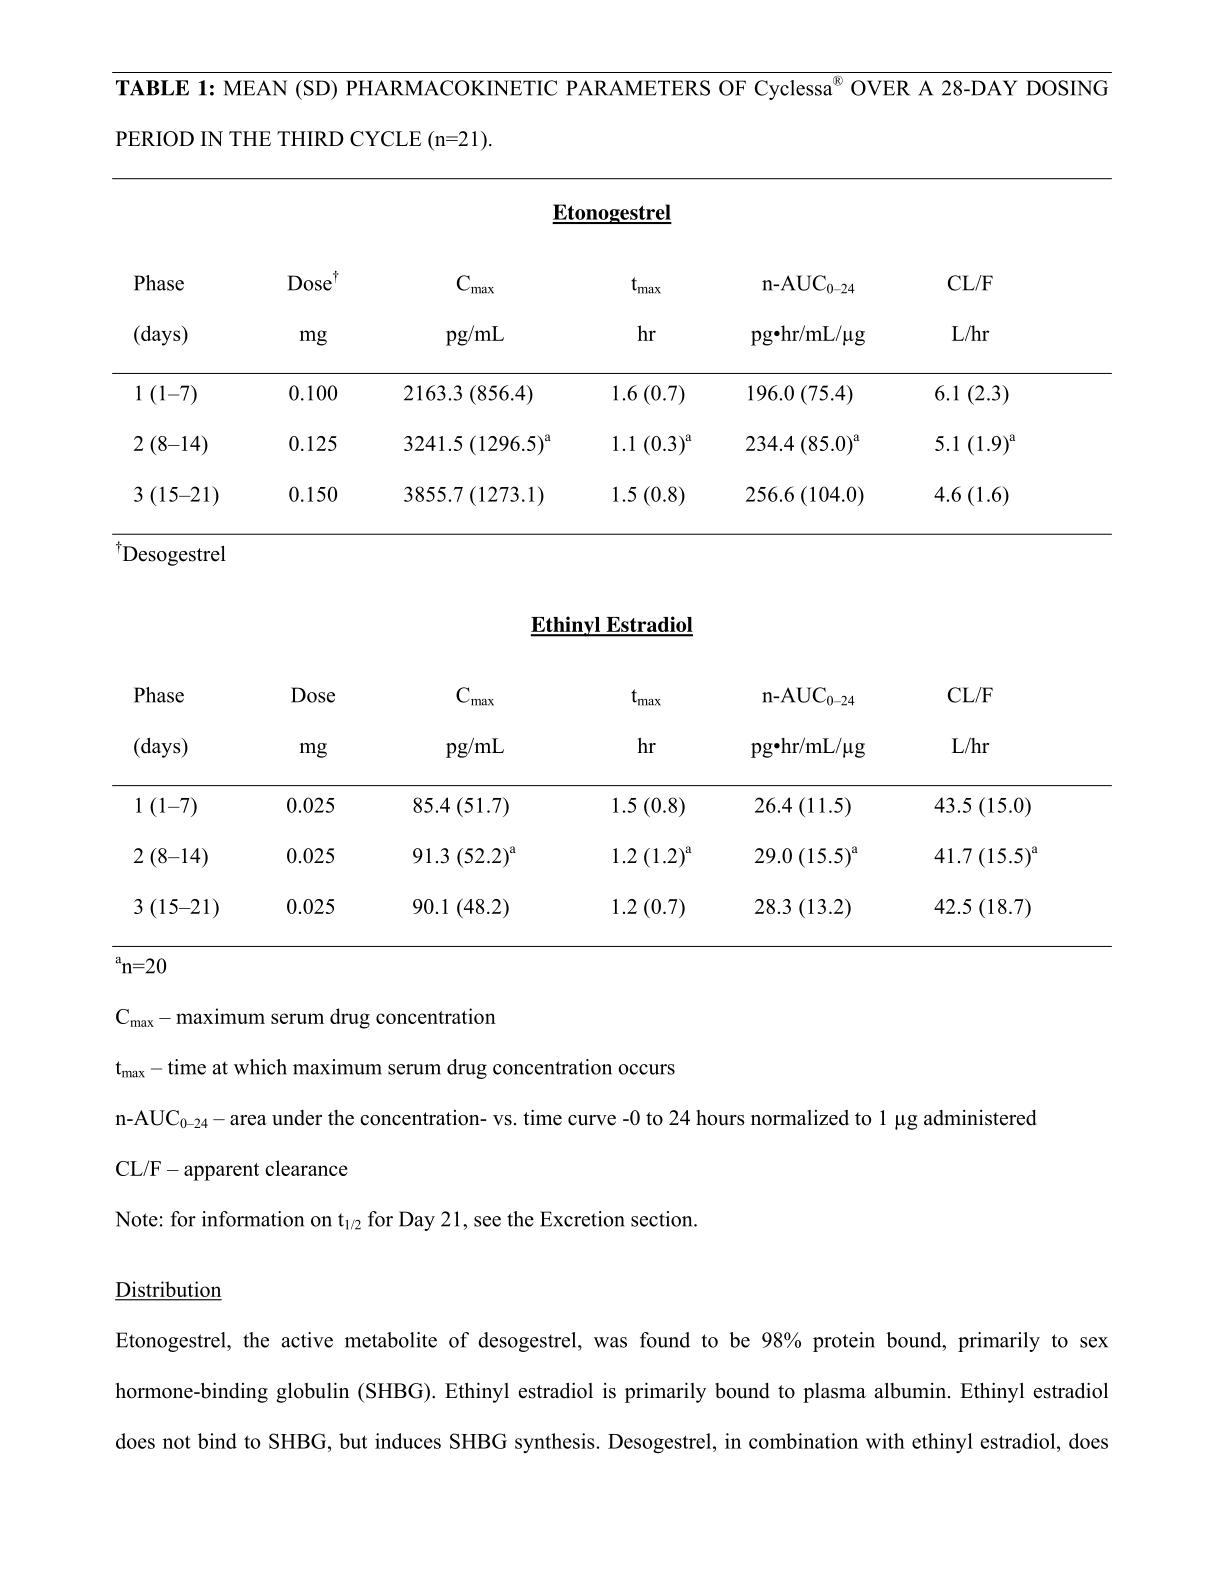partial_lined: (111, 176, 1112, 536), (111, 681, 1112, 948)
